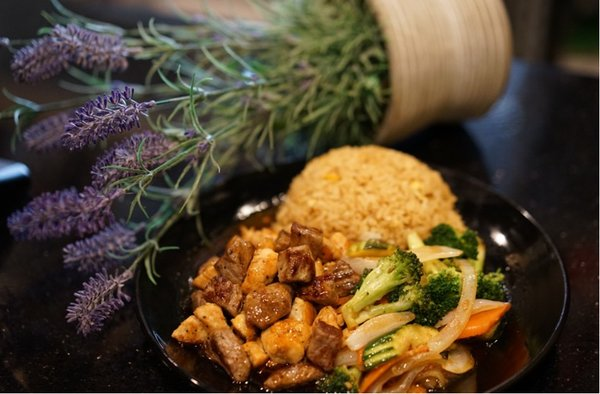curry: (341, 247, 462, 331)
sushi: (72, 141, 571, 390)
